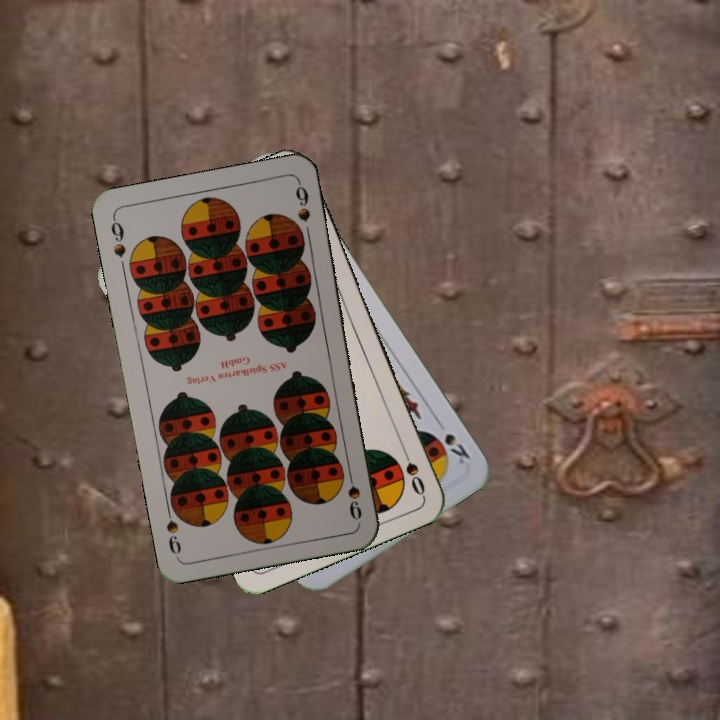S9: (343, 464, 365, 523), (107, 213, 129, 260)
SK: (432, 415, 473, 467)
SO: (397, 441, 428, 498)
